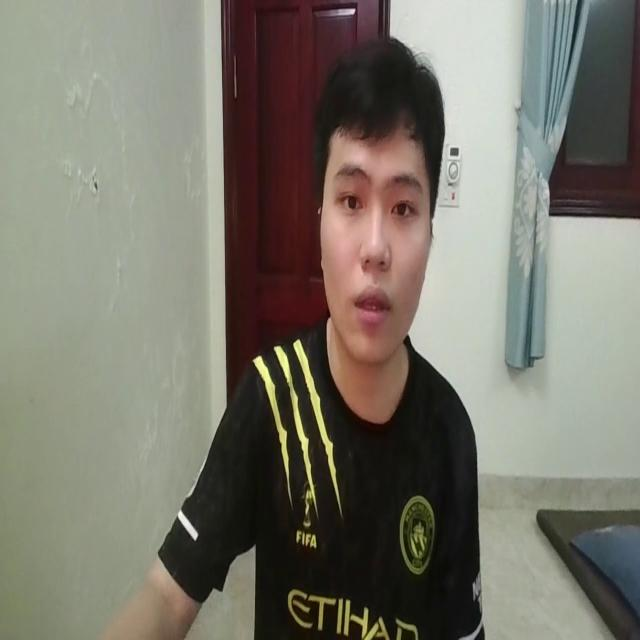student: (106, 30, 487, 640)
